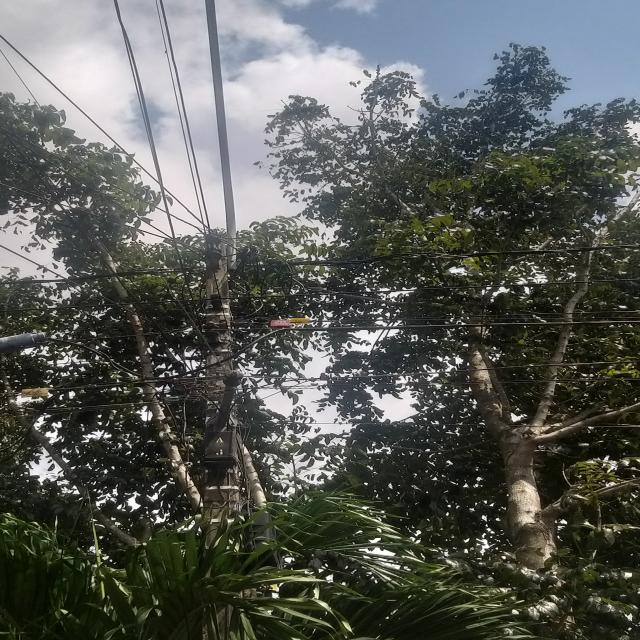Plaqueta: (270, 320, 290, 326)
